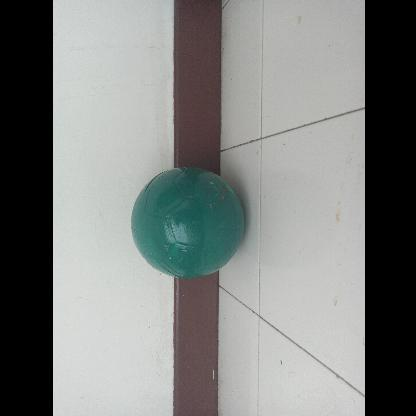green_ball: (127, 164, 242, 278)
